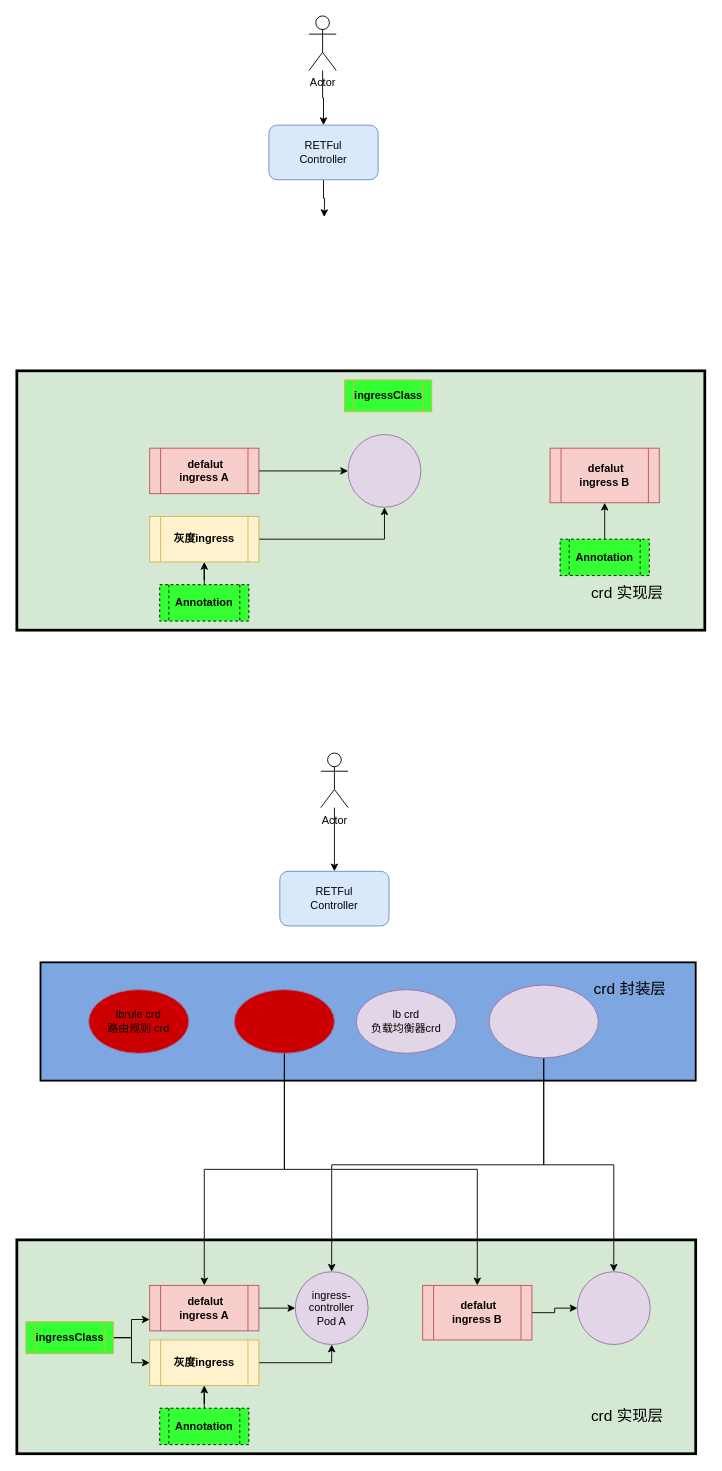
The diagram is 722 pixels wide and 1471 high, and some of its shapes have lost their labels. Each missing label, with the box of its shape:
ingress-controller: (347, 434, 421, 507)
ingress-controller Pod B: (576, 1271, 650, 1345)
lb crd controller: (488, 984, 598, 1058)
lbrule crd controller: (233, 989, 334, 1053)
